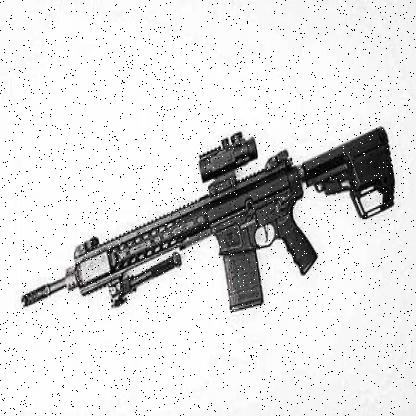rifle: (11, 72, 407, 355)
